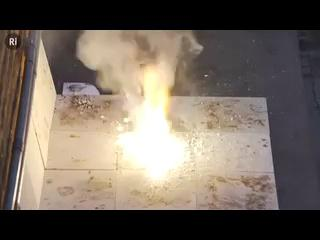Fire: (116, 58, 188, 180)
